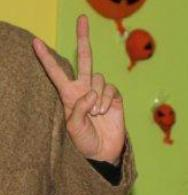front: (30, 13, 126, 171)
